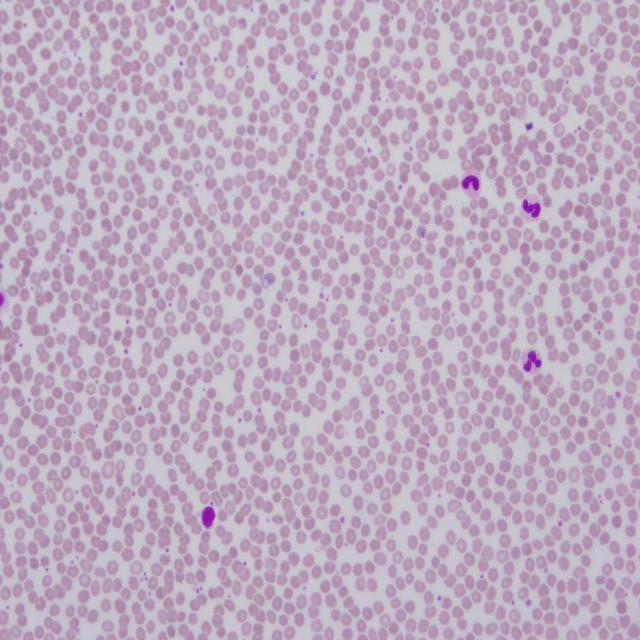cell: (520, 194, 541, 222), (521, 349, 542, 375)
